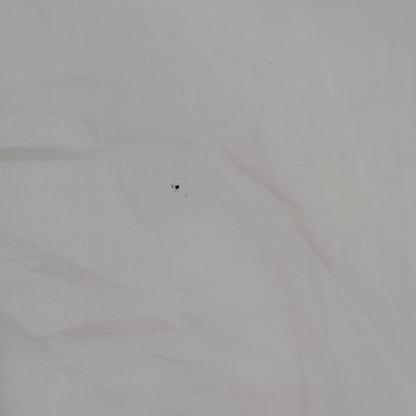spot: (168, 180, 189, 196), (154, 170, 162, 177)
